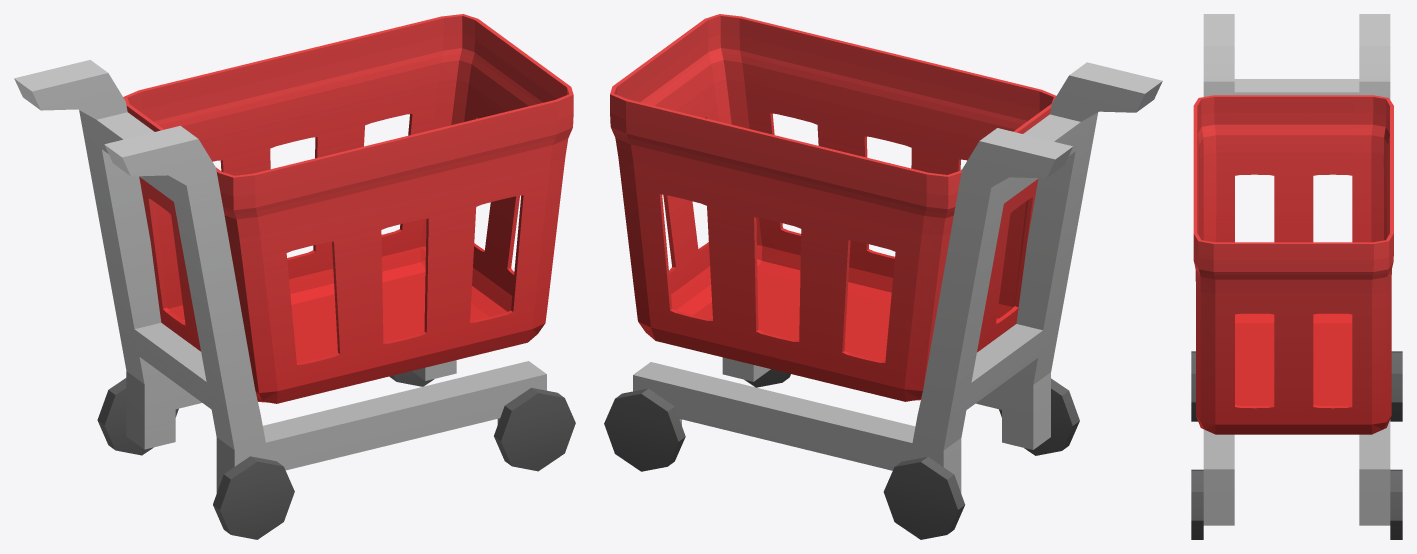
Rendered from cart_red.fbx.
3 views of the same model, side by side, from view 1: azimuth 30°, elevation 25°; view 2: azimuth 150°, elevation 25°; view 3: azimuth 270°, elevation 25° (orthographic). The views are drawn at different scales.
Parts seen in each view (by area): view 1: cart_red; view 2: cart_red; view 3: cart_red.
Part boxes in pixels (x1,y1,x2,y2): cart_red: (14, 14, 575, 539); cart_red: (604, 14, 1162, 539); cart_red: (1191, 14, 1402, 539).
Size of the model in its own units: 728 by 625 by 340.
